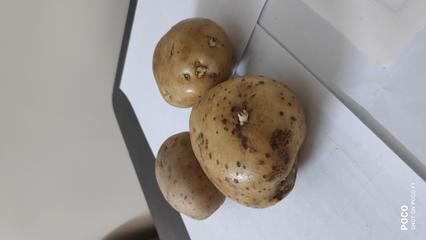potato: (193, 84, 314, 191), (149, 12, 234, 100)
